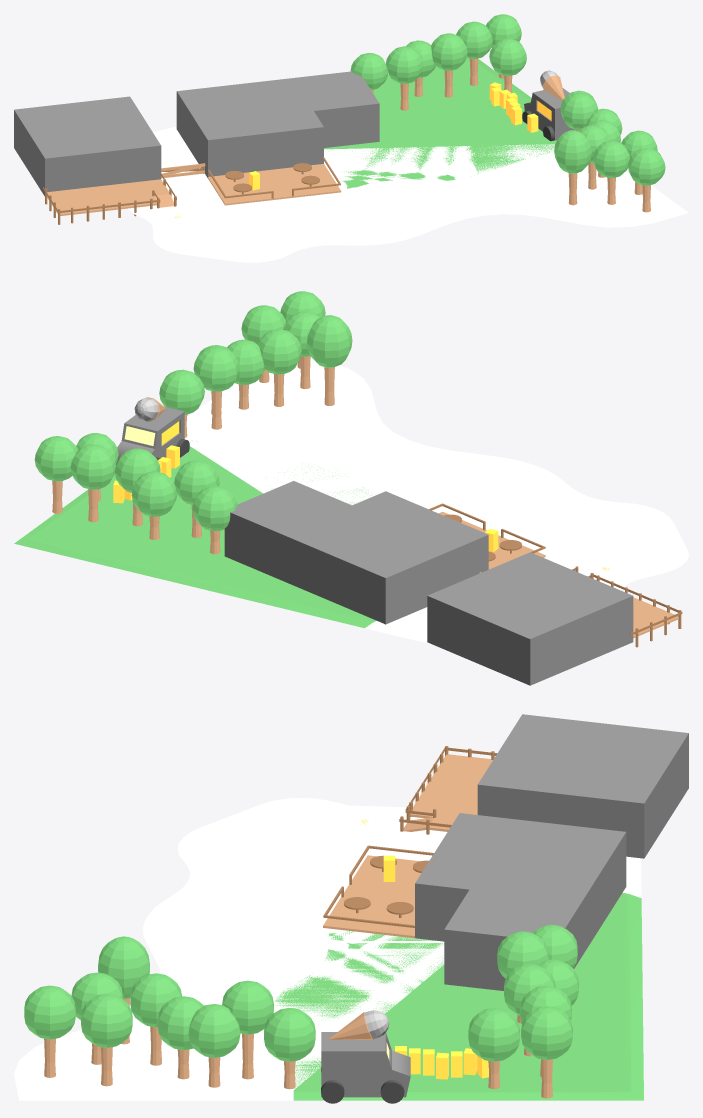
Rendered from UpdatedLevel.fbx.
3 views of the same model, one above another, from view 1: azimuth 30°, elevation 25°; view 2: azimuth 150°, elevation 25°; view 3: azimuth 270°, elevation 25° (orthographic). The views are drawn at different scales.
Visible parts, largest first — view 1: ground, restaurantRef, miscBuilding, trees, trees2, jetty, iceCreamTruck, barrier; view 2: ground, restaurantRef, miscBuilding, trees2, trees, iceCreamTruck, jetty; view 3: ground, restaurantRef, miscBuilding, trees2, trees, iceCreamTruck, jetty.
Part boxes in pixels (x1,y1,x2,y2): ground: [128, 58, 688, 262]; restaurantRef: [176, 71, 379, 205]; miscBuilding: [14, 96, 161, 196]; trees: [350, 14, 526, 110]; trees2: [554, 90, 665, 212]; jetty: [43, 173, 176, 224]; iceCreamTruck: [489, 70, 574, 141]; barrier: [161, 163, 205, 178]; ground: [14, 357, 688, 644]; restaurantRef: [224, 481, 545, 624]; miscBuilding: [427, 552, 633, 685]; trees2: [159, 291, 352, 437]; trees: [34, 433, 237, 554]; iceCreamTruck: [113, 397, 189, 503]; jetty: [572, 566, 682, 647]; ground: [14, 797, 643, 1100]; restaurantRef: [323, 813, 626, 990]; miscBuilding: [477, 714, 688, 858]; trees2: [24, 936, 315, 1089]; trees: [468, 924, 578, 1098]; iceCreamTruck: [321, 1010, 488, 1103]; jetty: [399, 746, 497, 834].
Size of the model in its own units: 7003 by 1039 by 5742.
